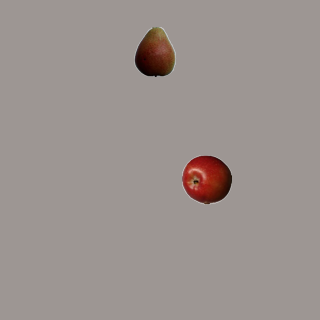Apple Braeburn: (181, 154, 231, 204)
Pear Forelle: (129, 26, 179, 76)
